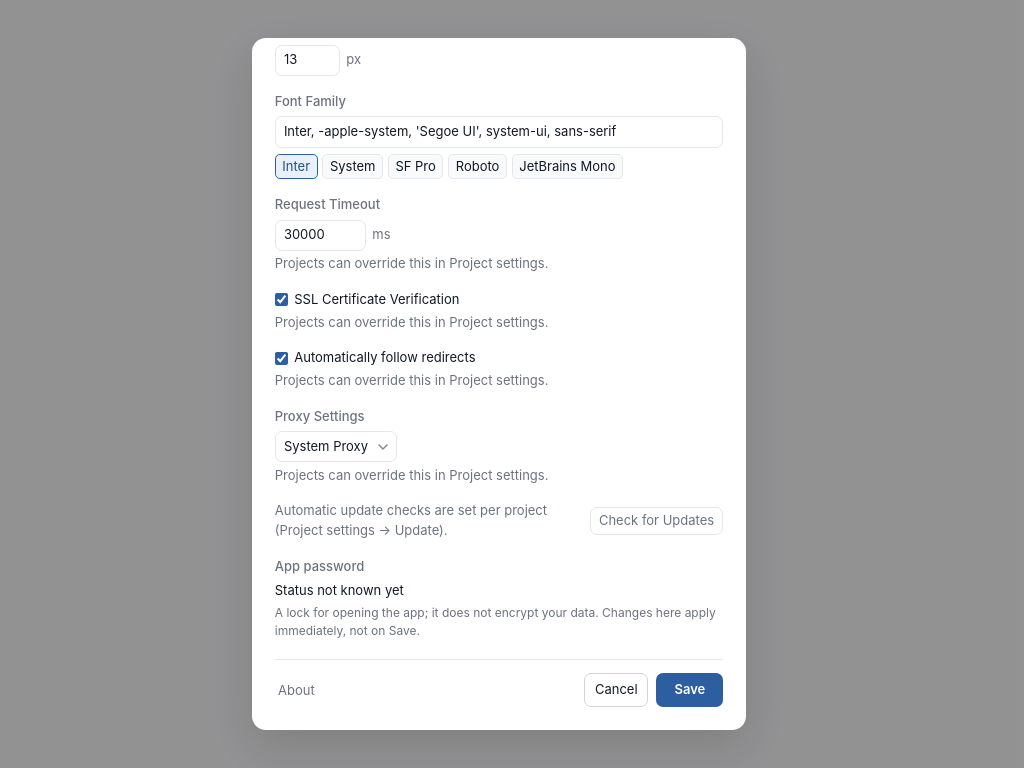
Test case: Settings: a failed save is not reported as success (APP-5) › treats a rejected promise the same as a `success:false` envelope
(page scrolled)
Click the button "Save" at (690, 690), box [656,673,723,707]
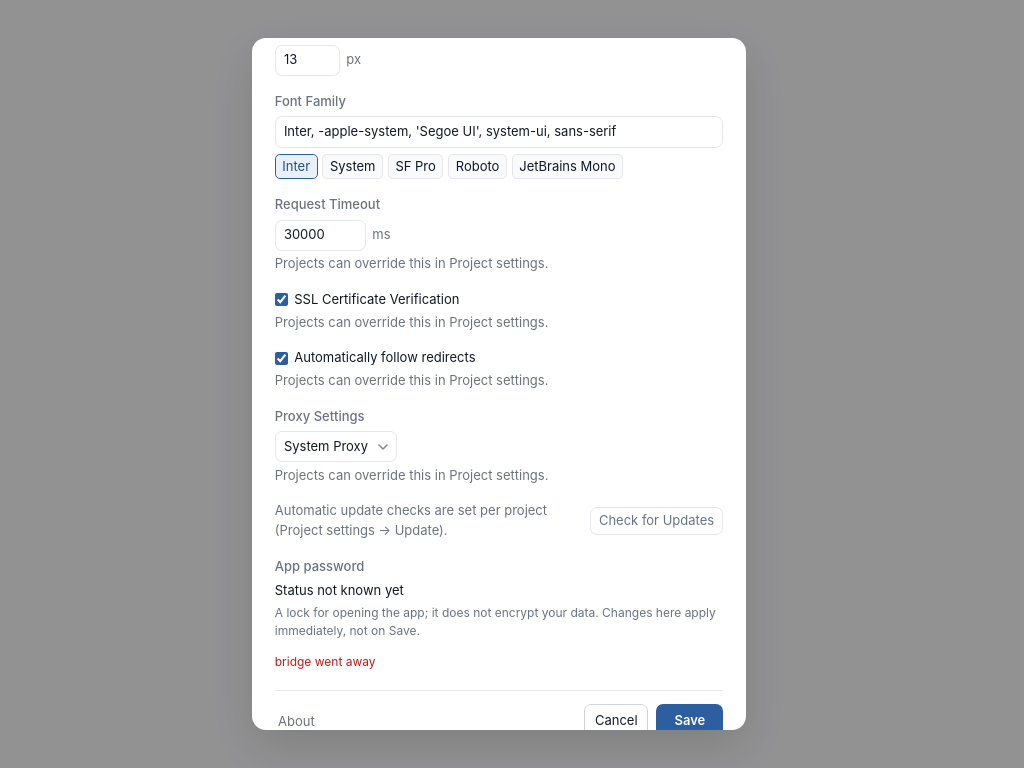
Expected: the text "bridge went away" is shown, [275,654,376,669]
